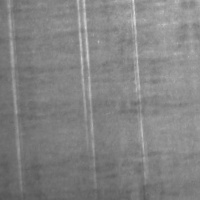scratches: (1, 4, 29, 192), (71, 0, 101, 174), (124, 0, 151, 179)
